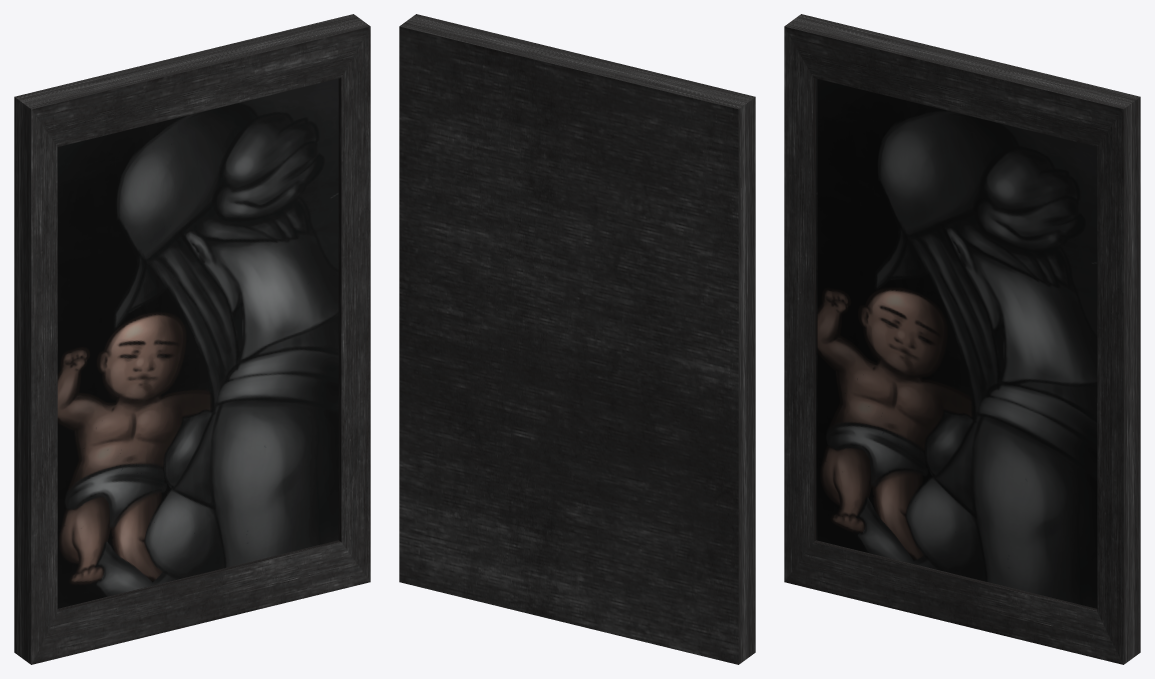
File: painting_main_1.fbx
3 views of the same model, side by side, from view 1: azimuth 30°, elevation 25°; view 2: azimuth 150°, elevation 25°; view 3: azimuth 330°, elevation 25° (orthographic).
Parts seen in each view (by area): view 1: painting_Var5.001; view 2: painting_Var5.001; view 3: painting_Var5.001.
Part boxes in pixels (x1,y1,x2,y2): painting_Var5.001: [14, 14, 370, 664]; painting_Var5.001: [399, 14, 755, 664]; painting_Var5.001: [784, 14, 1140, 664].
Size of the model in its own units: 59.07 by 92.39 by 5.15.
1 material, 1 textured.
